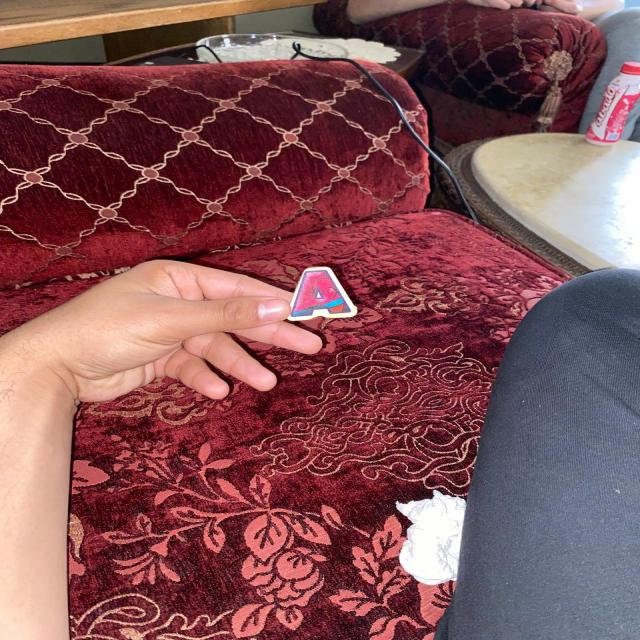A: (288, 267, 357, 321)
